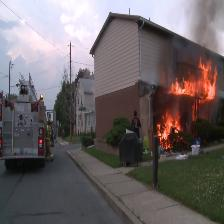fire: (148, 54, 224, 172)
nofire: (30, 127, 50, 160)
smoke: (175, 0, 224, 65)
